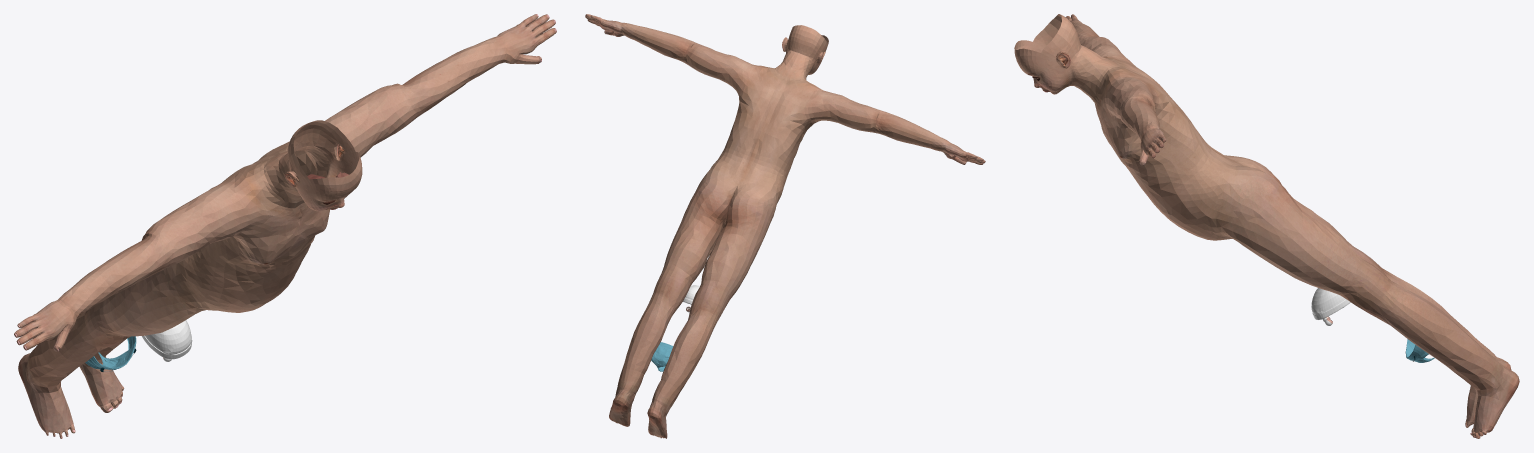
3 renders of one model, left to right at view 1: azimuth 30°, elevation 25°; view 2: azimuth 150°, elevation 25°; view 3: azimuth 270°, elevation 25°, orthographic. The views are drawn at different scales.
Parts seen in each view (by area): view 1: 5, 4, 6, 3, BabyLunaBeaie_Beanie_0, 1; view 2: 4, 6, 5, 3, 1; view 3: 4, 6, 5, 3, BabyLunaBeaie_Beanie_0.
Part boxes in pixels (x1,y1,x2,y2): 5: [14, 14, 556, 351]; 4: [130, 141, 332, 328]; 6: [18, 286, 171, 438]; 3: [284, 120, 362, 211]; BabyLunaBeaie_Beanie_0: [142, 320, 192, 359]; 1: [85, 336, 136, 369]; 4: [681, 52, 818, 255]; 6: [609, 218, 756, 438]; 5: [585, 14, 985, 164]; 3: [782, 25, 828, 74]; 1: [651, 342, 673, 371]; 4: [1068, 46, 1303, 266]; 6: [1276, 198, 1519, 438]; 5: [1066, 14, 1166, 165]; 3: [1014, 14, 1084, 94]; BabyLunaBeaie_Beanie_0: [1311, 288, 1350, 319].
Bounding box in the file's own units: 163 × 129 × 144.
